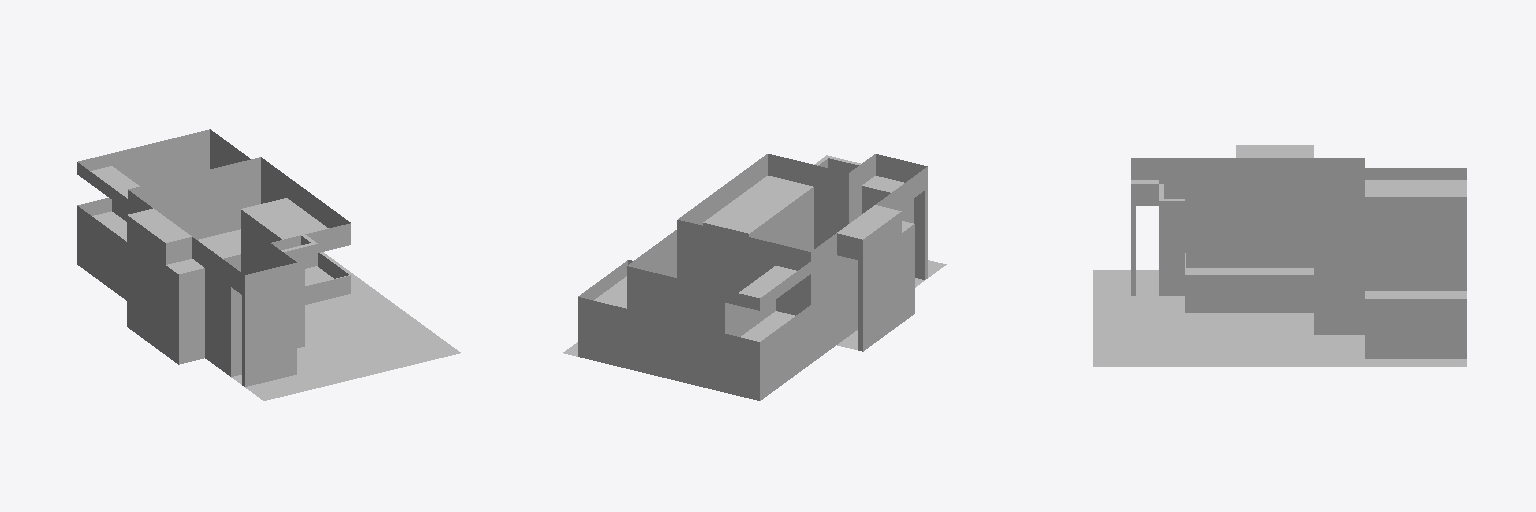
Rendered from house1_open1.obj.
The picture shows the model from 3 angles: view 1: azimuth 30°, elevation 25°; view 2: azimuth 150°, elevation 25°; view 3: azimuth 270°, elevation 25°; orthographic projection.
Parts seen in each view (by area): view 1: Plane, Plane.030, Plane.036, Plane.073, Plane.004, Plane.001, Plane.069; view 2: Plane, Plane.036, Plane.051, Plane.003, Plane.002; view 3: Plane, Plane.030, Plane.004, Plane.051, Plane.073, Plane.010, Plane.011, Plane.012, Plane.015, Plane.013, Plane.014, Plane.001 (+7 smaller).
Boxes of the visible parts, box(x1,y1,x2,y2) form: Plane: box(77, 129, 350, 386); Plane.030: box(231, 252, 460, 400); Plane.036: box(127, 215, 152, 345); Plane.073: box(297, 347, 349, 387); Plane.004: box(305, 253, 350, 301); Plane.001: box(241, 211, 260, 267); Plane.069: box(198, 229, 240, 258); Plane: box(578, 154, 927, 400); Plane.036: box(858, 220, 888, 351); Plane.051: box(837, 256, 857, 342); Plane.003: box(793, 189, 812, 245); Plane.002: box(771, 204, 791, 246); Plane: box(1131, 145, 1466, 334); Plane.030: box(1093, 270, 1466, 366); Plane.004: box(1185, 253, 1313, 290); Plane.051: box(1264, 181, 1312, 222); Plane.073: box(1093, 296, 1184, 312); Plane.010: box(1367, 316, 1397, 357); Plane.011: box(1401, 316, 1431, 357); Plane.012: box(1434, 316, 1464, 357); Plane.015: box(1418, 246, 1441, 288); Plane.013: box(1367, 246, 1389, 288); Plane.014: box(1393, 246, 1415, 288); Plane.001: box(1272, 245, 1312, 266).
Size of the model in its own units: 9.6 by 4.59 by 13.86.